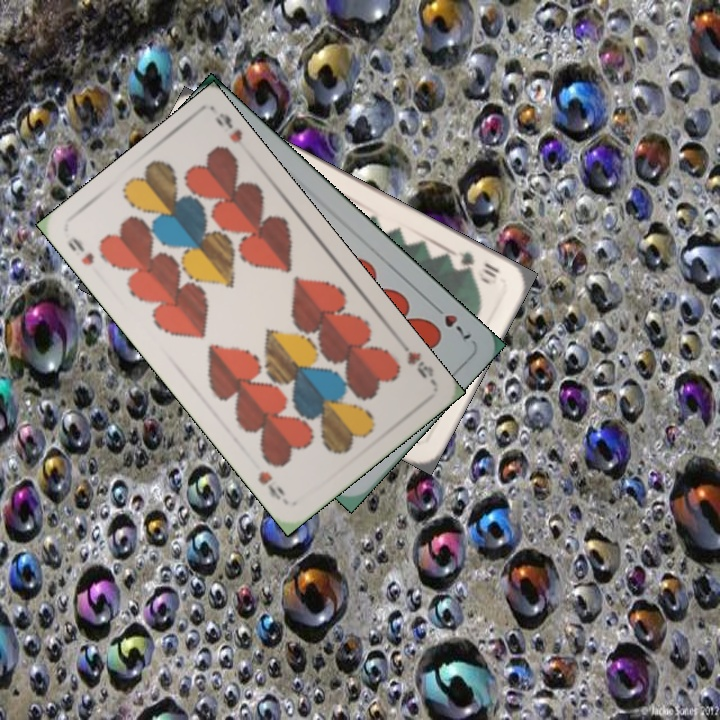G10: (453, 247, 503, 286)
H7: (427, 299, 474, 342)
H9: (394, 335, 437, 381), (63, 232, 97, 268)
